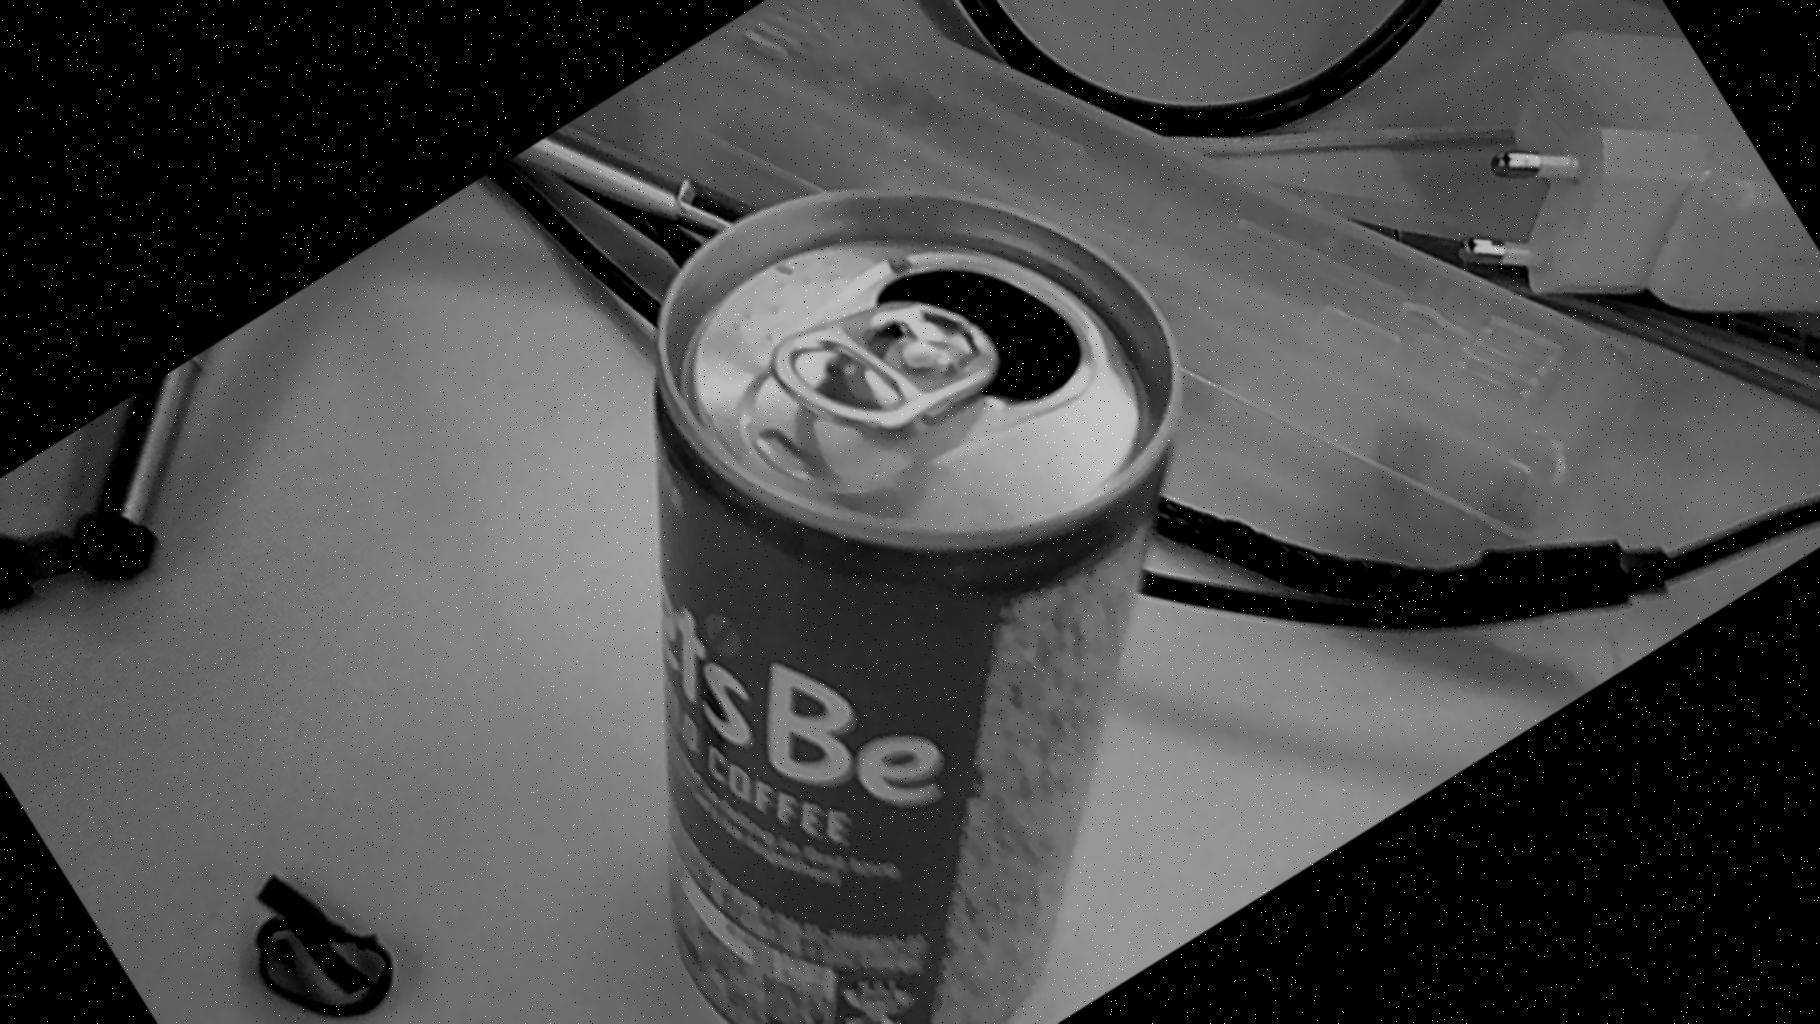letsbe: (361, 54, 1441, 1024)
